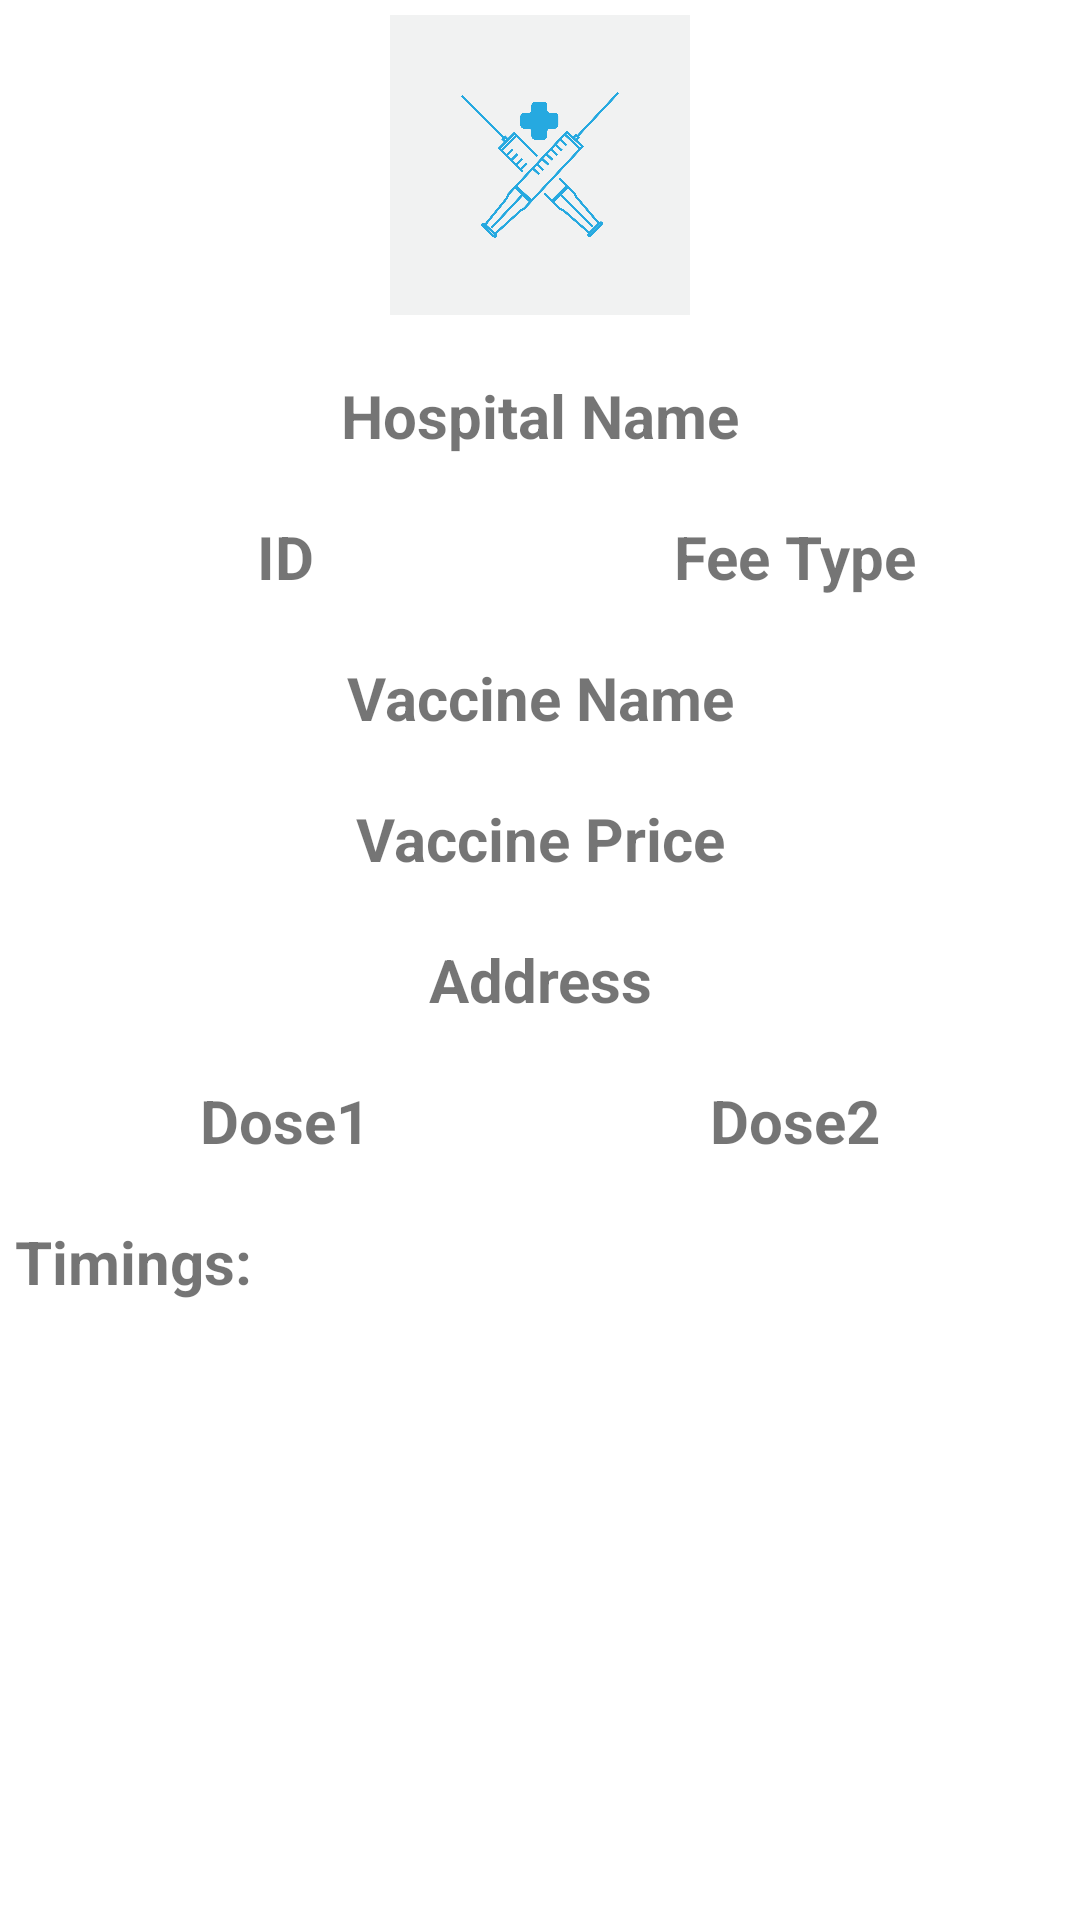

Named icons in this screenshot (1080 x 1920) and their bounding boxes, (x1, y1, x2, y2):
vaccine: (390, 15, 690, 315)
